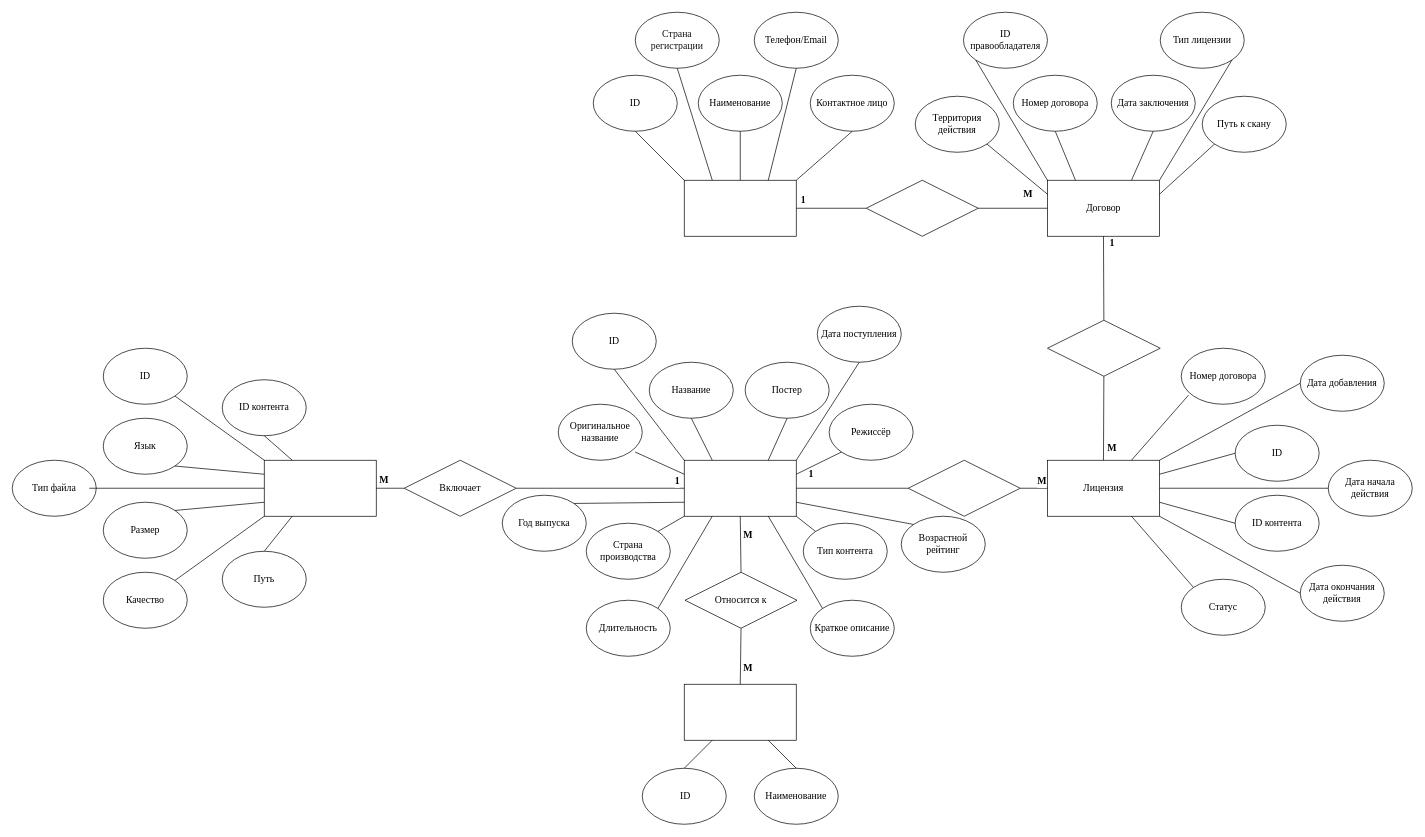
This 1425x837 diagram has some shape labels left out. The shapes that lost their labels are listed below. From the top down, each one's centre as x and y in pixels, then its label:
pixel 740 208: Правообладатель
pixel 922 208: Заключает
pixel 1103 348: Предоставляет
pixel 320 488: Медиа-файл
pixel 740 488: Контент
pixel 964 488: Имеет
pixel 740 712: Жанр
